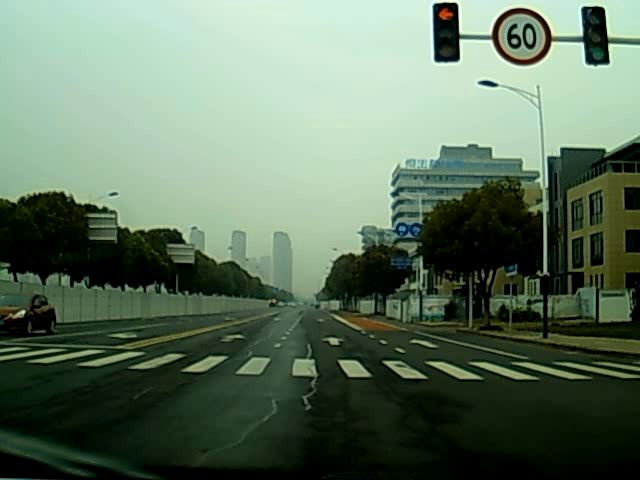Traffic_Light_go: (581, 11, 610, 62)
Traffic_Light_stop: (434, 3, 455, 61)
